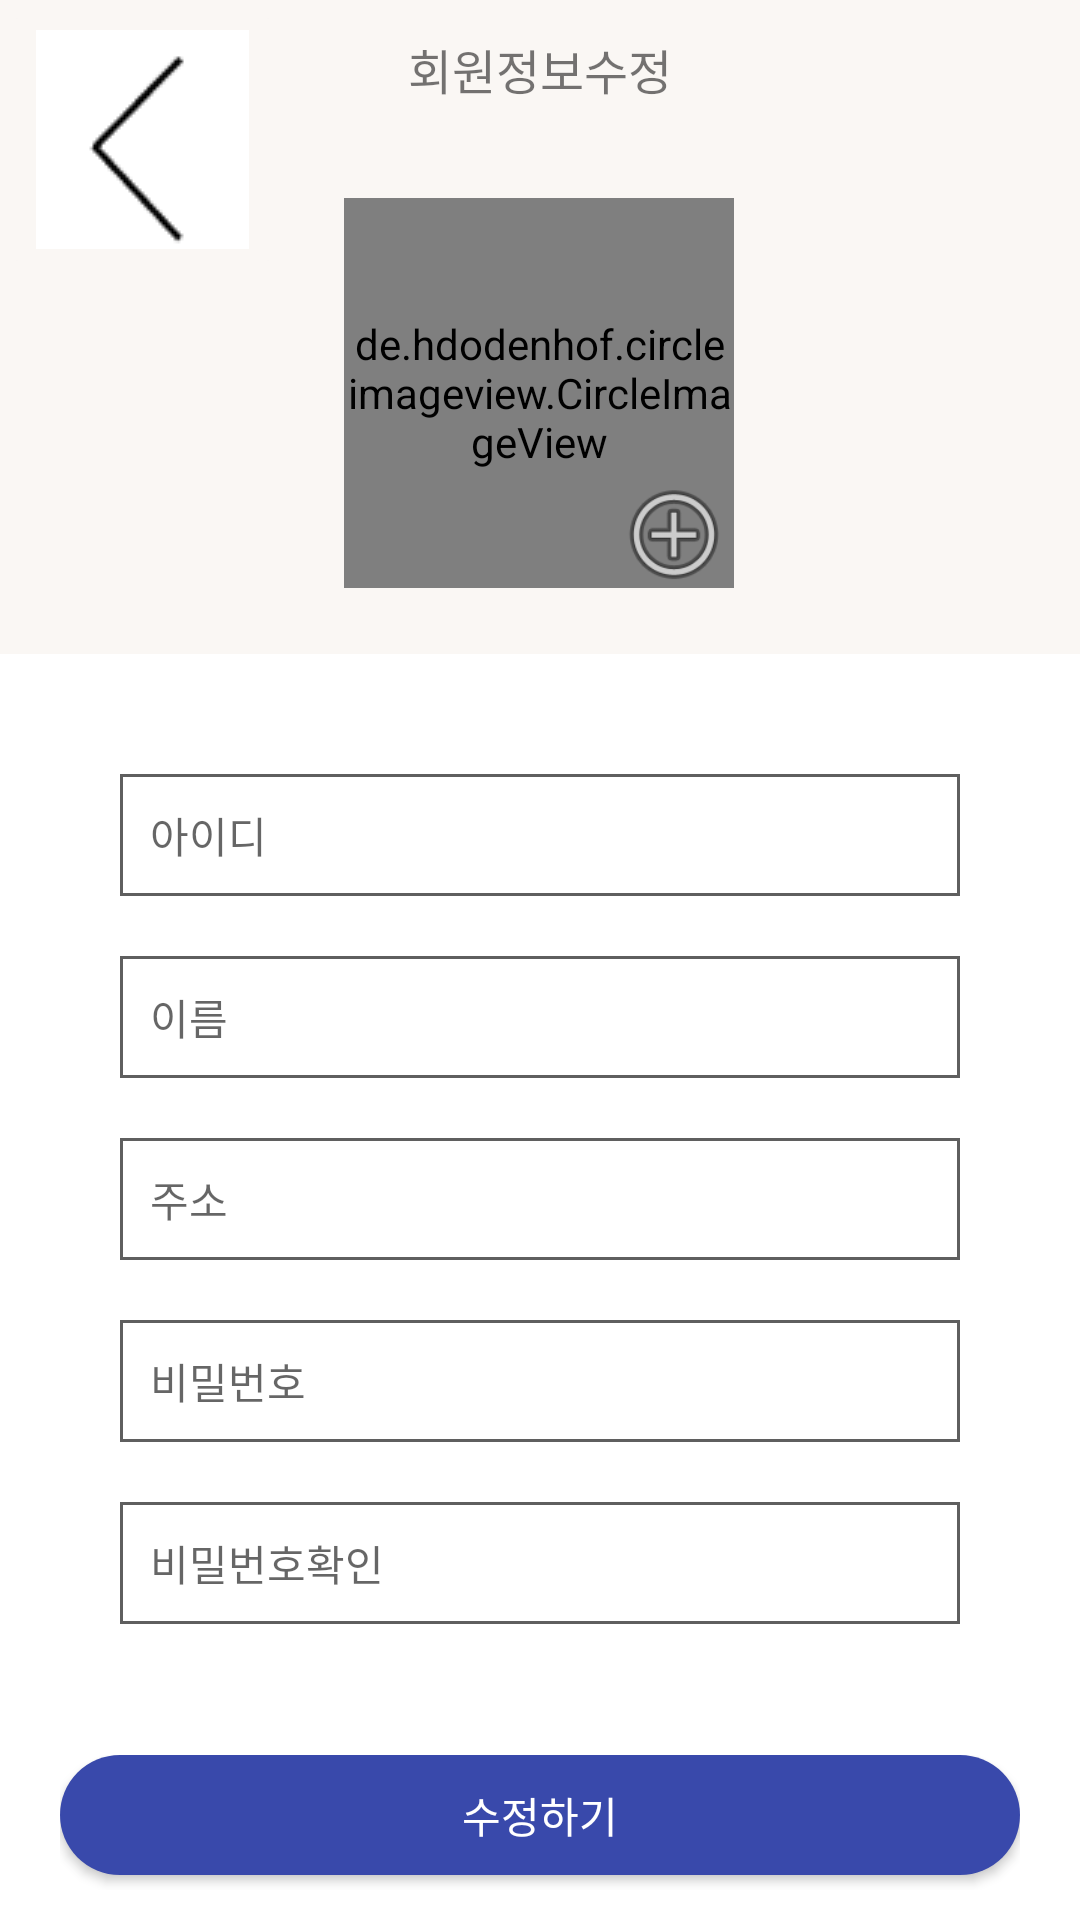

Icon click points for this 1080*1920 phone screenshot, format point (x, y):
add: point (674, 534)
arrow: point (142, 139)
